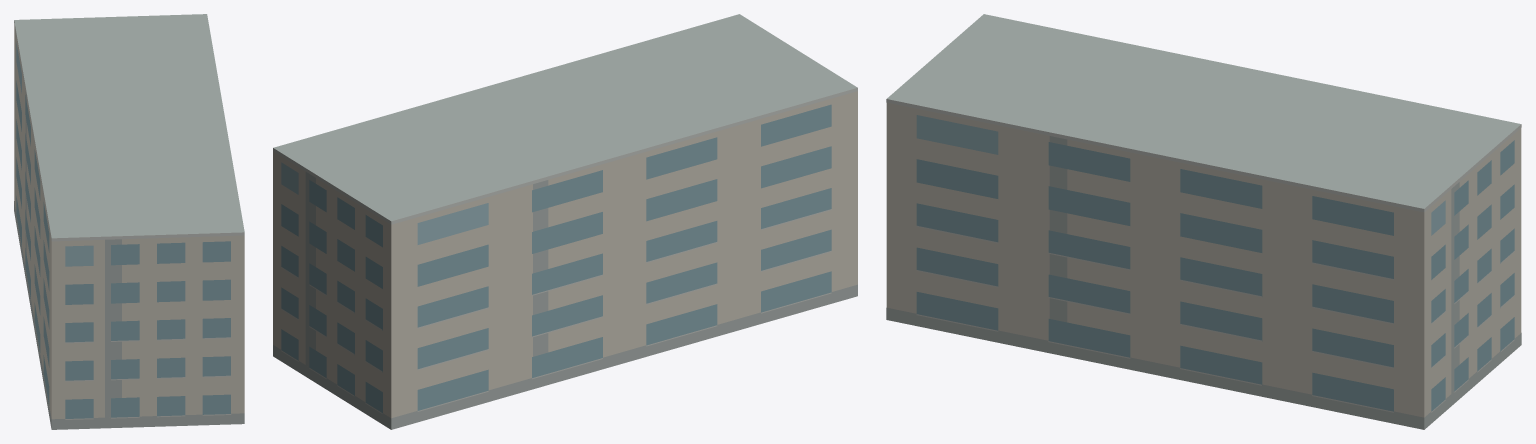
The model's file is residential-292f0601-7f91-45ff-a1ac-ac41c0083c07.glb.
3 renders of one model, left to right at view 1: azimuth 30°, elevation 25°; view 2: azimuth 150°, elevation 25°; view 3: azimuth 270°, elevation 25°, orthographic. The views are drawn at different scales.
Visible parts, largest first — view 1: residential-292f0601-7f91-45ff-a1ac-ac41c0083c07.tmp; view 2: residential-292f0601-7f91-45ff-a1ac-ac41c0083c07.tmp; view 3: residential-292f0601-7f91-45ff-a1ac-ac41c0083c07.tmp.
Boxes of the visible parts, box(x1,y1,x2,y2) form: residential-292f0601-7f91-45ff-a1ac-ac41c0083c07.tmp: box(14, 14, 244, 429); residential-292f0601-7f91-45ff-a1ac-ac41c0083c07.tmp: box(273, 14, 857, 429); residential-292f0601-7f91-45ff-a1ac-ac41c0083c07.tmp: box(886, 14, 1521, 429).
Bounding box in the file's own units: 28.39 × 15 × 39.07.
